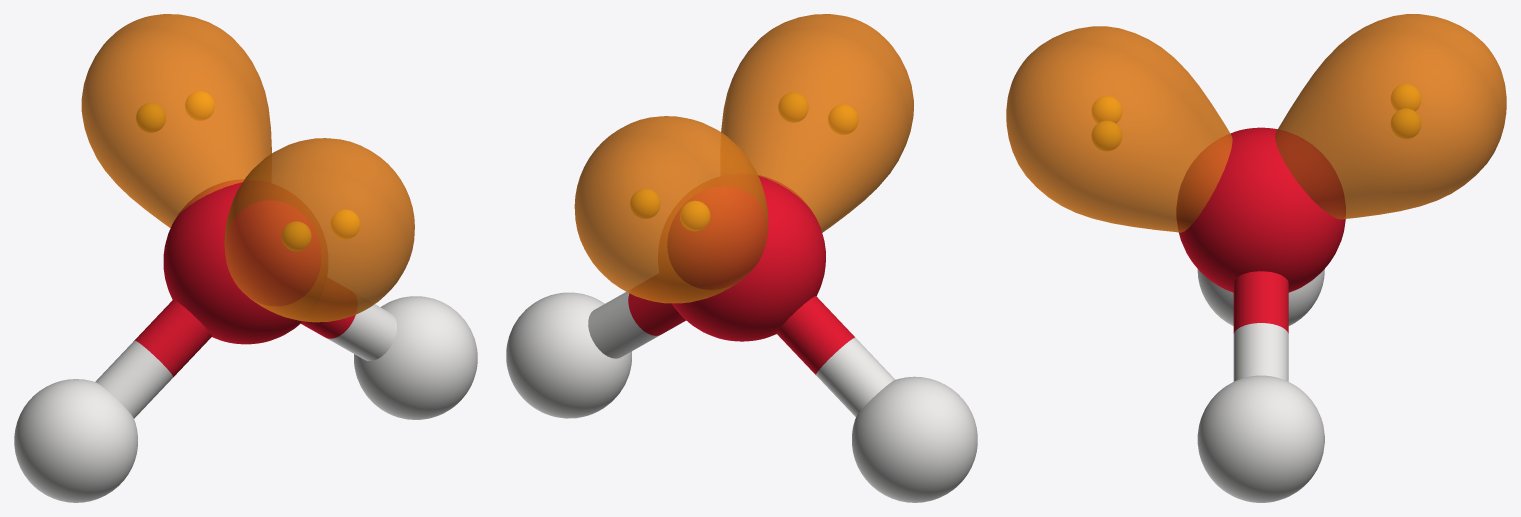
3 views of the same model, side by side, from view 1: azimuth 30°, elevation 25°; view 2: azimuth 150°, elevation 25°; view 3: azimuth 270°, elevation 25° (orthographic). The views are drawn at different scales.
Visible parts, largest first — view 1: S1; view 2: S1; view 3: S1.
Part boxes in pixels (x1,y1,x2,y2): S1: [14, 14, 477, 502]; S1: [506, 14, 977, 502]; S1: [1006, 14, 1506, 502].
Bounding box in the file's own units: 31.73 × 25.68 × 29.93.
